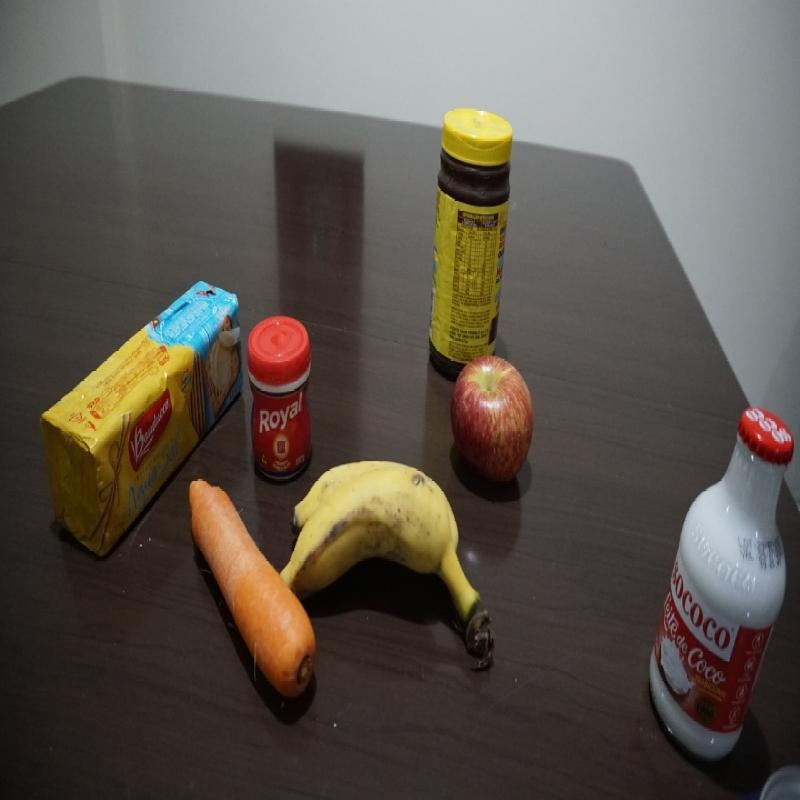Apple: (452, 354, 536, 476)
Banana: (292, 465, 481, 598)
Carrot: (178, 473, 284, 710)
Chocolate Powder: (434, 106, 512, 347)
Coconut Milk: (650, 406, 796, 768)
Cracker: (38, 274, 244, 476)
Yeast: (247, 310, 312, 478)
